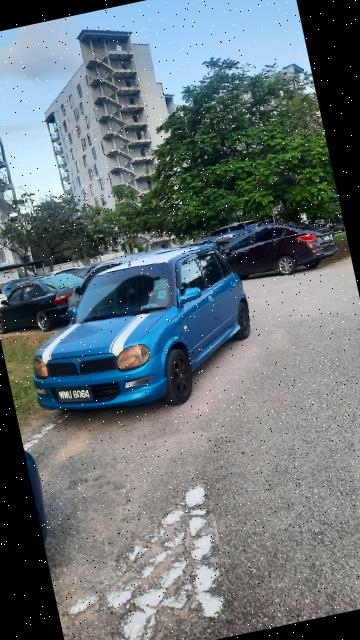License_Plate: (53, 379, 98, 412)
car: (10, 237, 269, 434), (206, 209, 347, 290)
